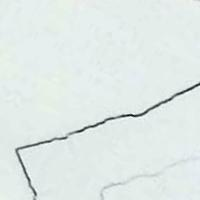crack: (10, 81, 199, 199)
